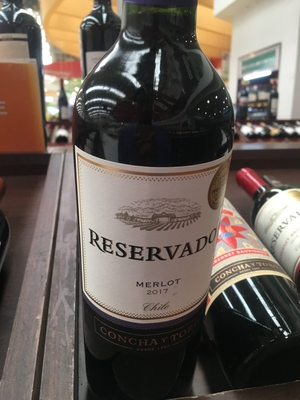reservado merlot: (65, 6, 227, 371)
